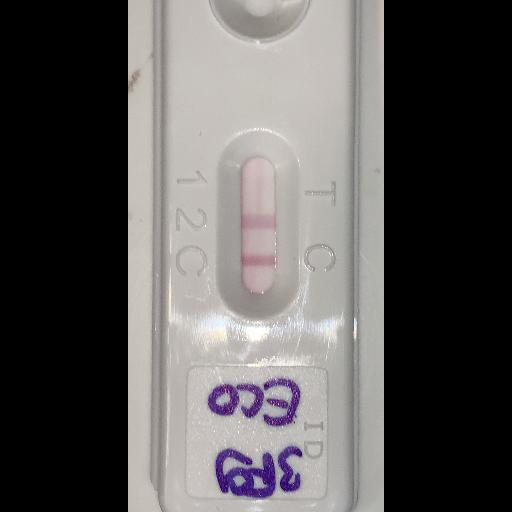Pos: (154, 0, 357, 511)
